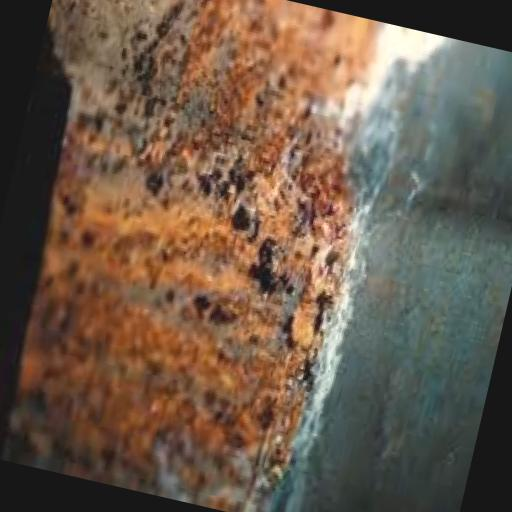segmentation: (7, 0, 376, 512)
